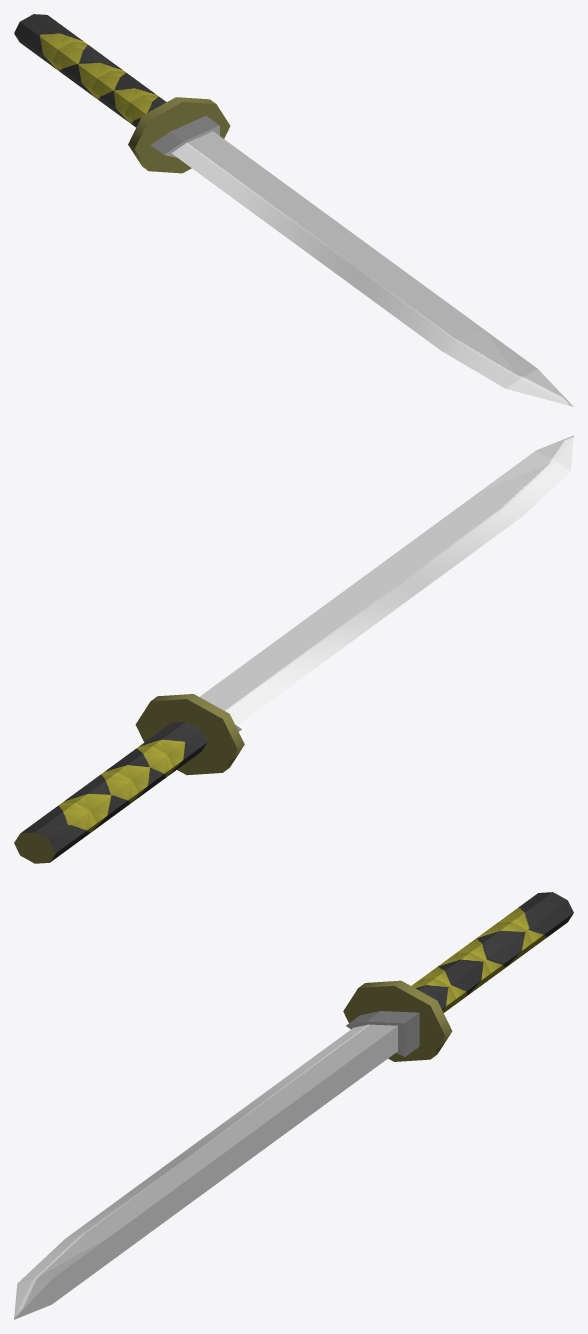
The model's file is KatanaBasic.FBX.
3 views of the same model, one above another, from view 1: azimuth 30°, elevation 25°; view 2: azimuth 150°, elevation 25°; view 3: azimuth 330°, elevation 25° (orthographic). The views are drawn at different scales.
Parts seen in each view (by area): view 1: Katana; view 2: Katana; view 3: Katana.
Part boxes in pixels (x1=…): Katana: x1=14, y1=14, x2=573, y2=406; Katana: x1=14, y1=435, x2=573, y2=863; Katana: x1=14, y1=892, x2=573, y2=1319.
Bounding box in the file's own units: 18.23 × 12.97 × 172.
1 material, 1 textured.
